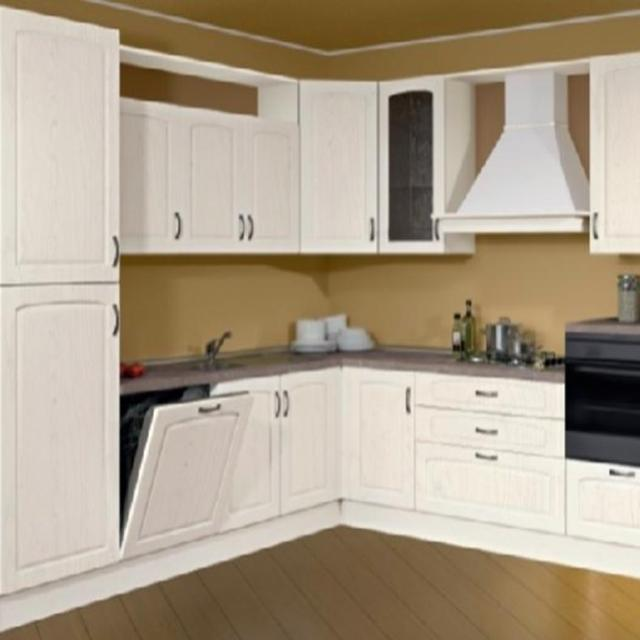dishwasher: (121, 382, 254, 560)
